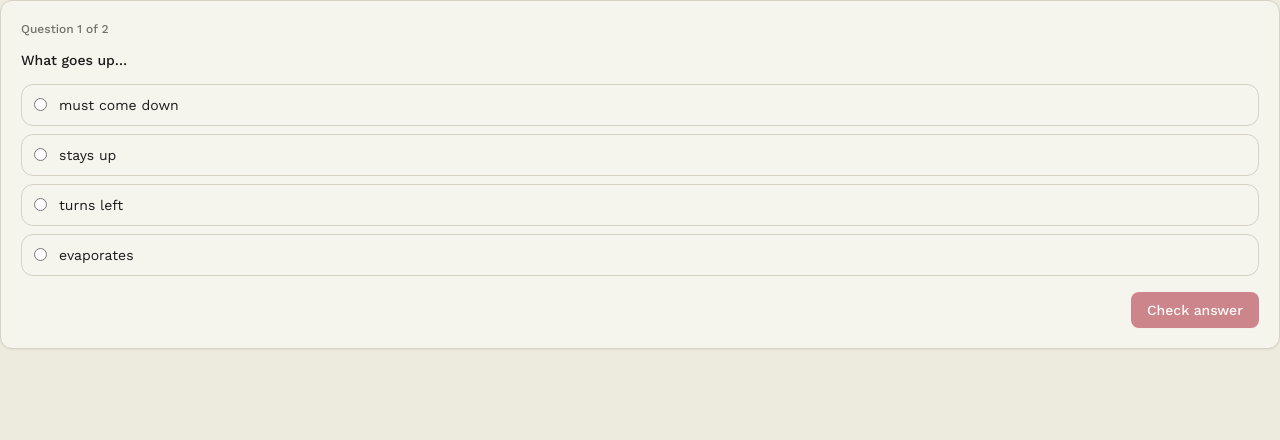
Test: QuizPlayer › gives negative feedback for a wrong MCQ answer
This screenshot has width=1280, height=440.
Click the radio button labelled "stays up": (40, 155) [34, 148, 47, 161]
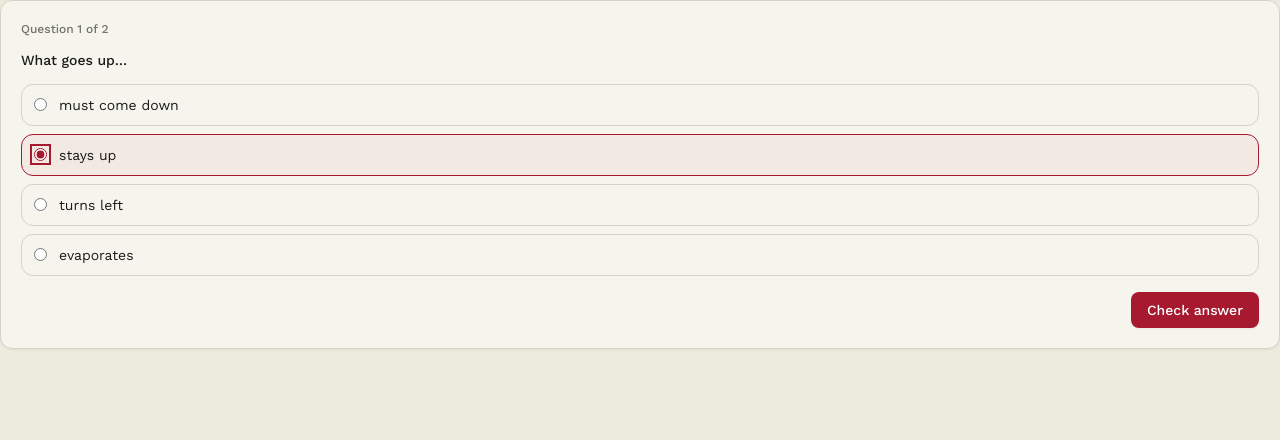
Click the button "Check answer": (1195, 310) [1131, 292, 1259, 328]
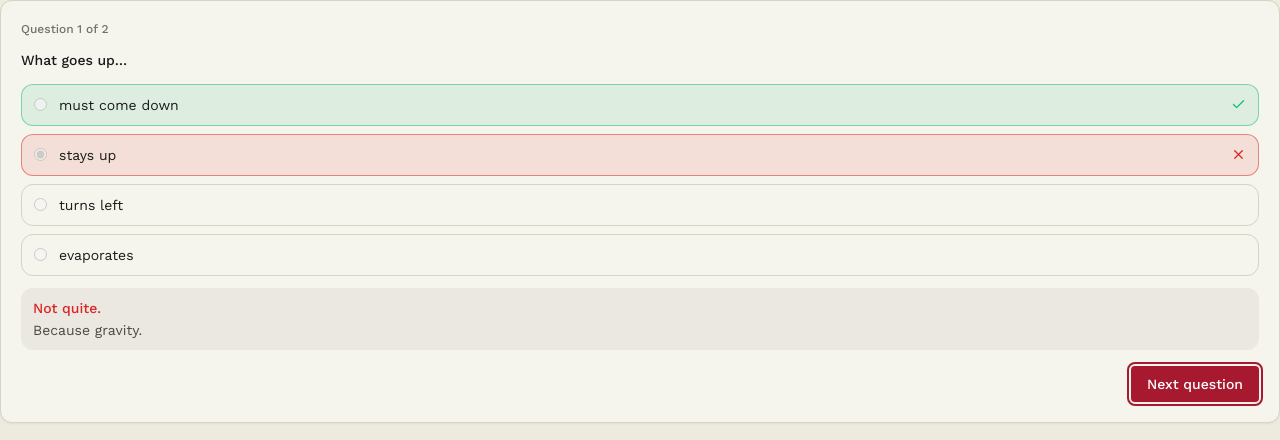
Check: the text "Not quite." is shown, box [33, 300, 101, 316]
